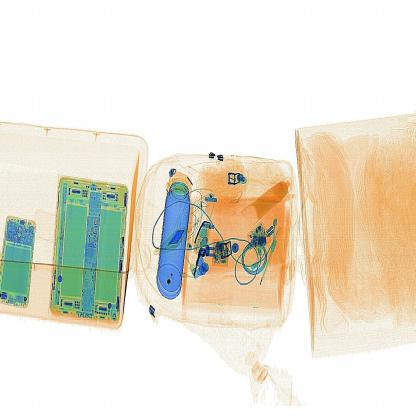pliers: (160, 224, 196, 259)
